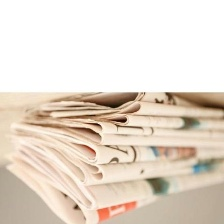news_paper: (3, 90, 224, 223)
